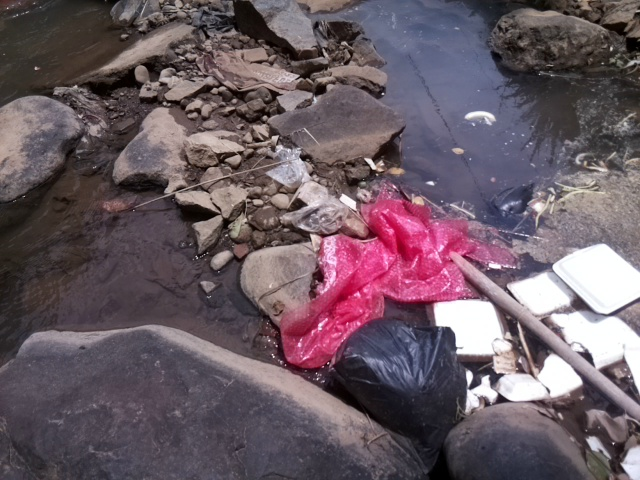Sampah_Plastik: (276, 188, 512, 372), (319, 314, 462, 457), (279, 197, 349, 233), (266, 149, 314, 187), (491, 180, 538, 217)
Sampah_Styrofoam: (546, 308, 640, 397), (554, 240, 640, 310), (424, 294, 510, 363), (491, 353, 584, 401), (504, 268, 575, 315)
